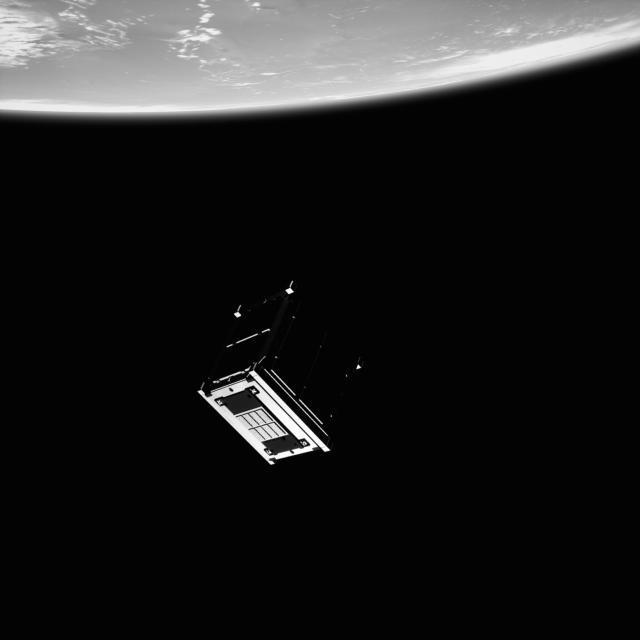medium_debris: (190, 268, 368, 466)
